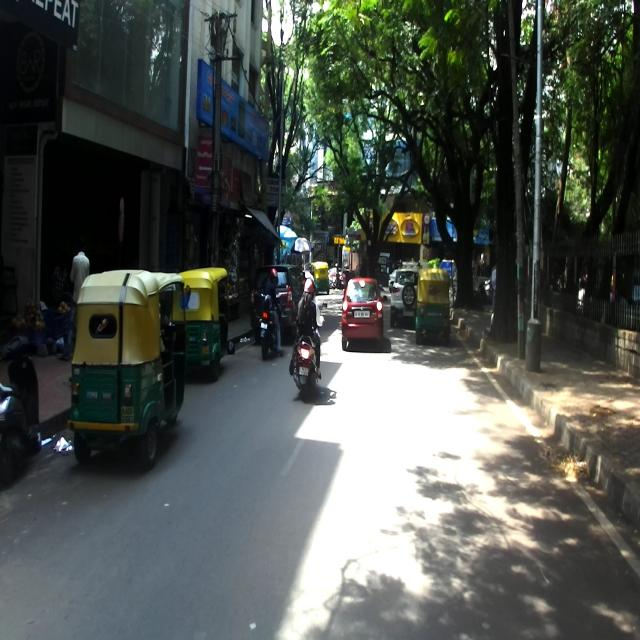Car_Toyota: (249, 262, 309, 346)
autorickshaw: (66, 269, 190, 471), (174, 266, 229, 381)
motorcycle_bajaj: (258, 291, 284, 360)
scooter: (0, 333, 41, 486), (291, 301, 328, 401)
